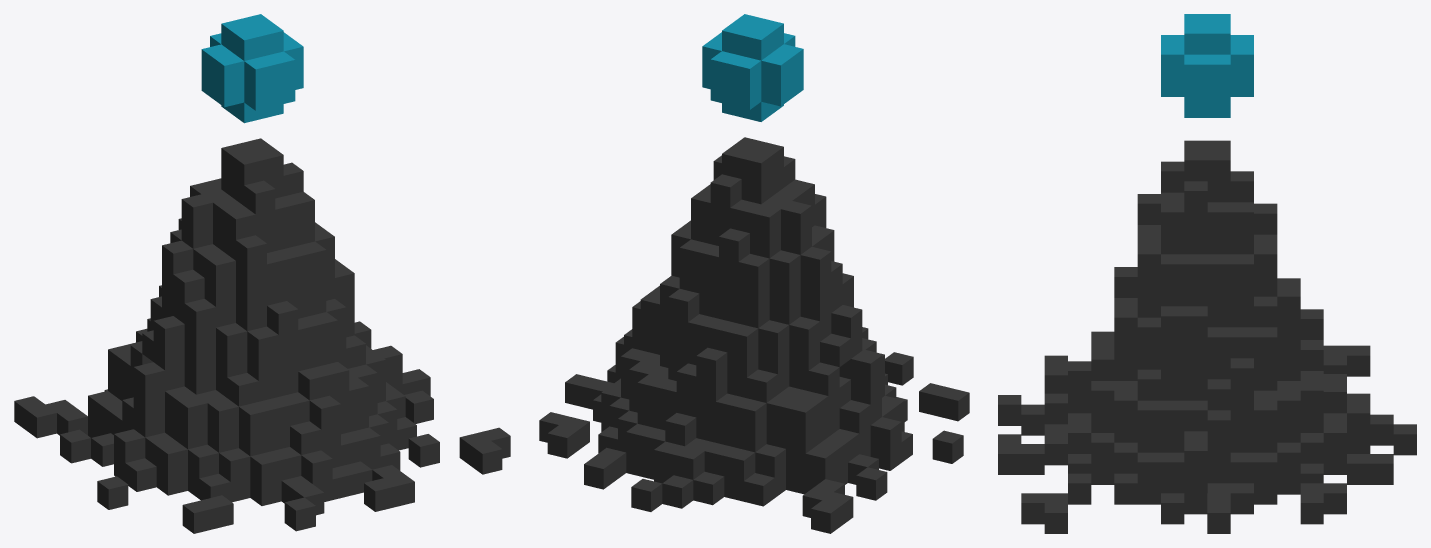
File: mountainorb.fbx
3 views of the same model, side by side, from view 1: azimuth 30°, elevation 25°; view 2: azimuth 150°, elevation 25°; view 3: azimuth 270°, elevation 25° (orthographic). The views are drawn at different scales.
Visible parts, largest first — view 1: mountainorb; view 2: mountainorb; view 3: mountainorb.
Part boxes in pixels (x1,y1,x2,y2): mountainorb: [14, 14, 510, 533]; mountainorb: [539, 14, 969, 533]; mountainorb: [998, 14, 1416, 533].
Size of the model in its own units: 180 by 200 by 180.
